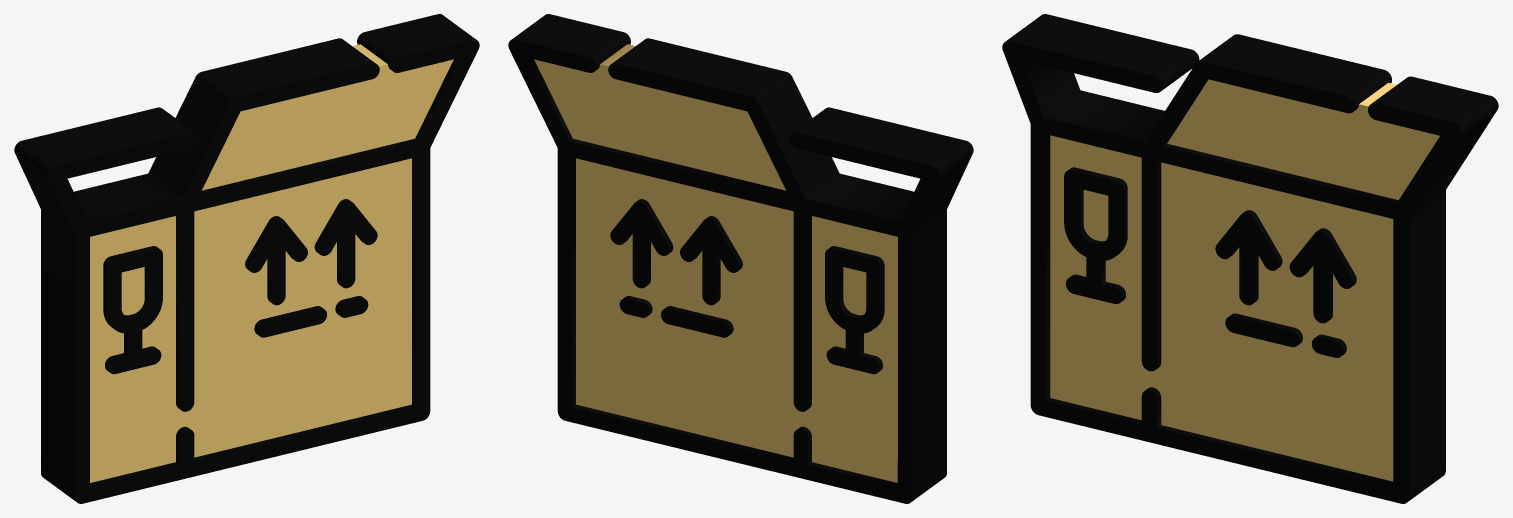
File: Cardboard Box.fbx
3 renders of one model, left to right at view 1: azimuth 30°, elevation 25°; view 2: azimuth 150°, elevation 25°; view 3: azimuth 330°, elevation 25°, orthographic. The views are drawn at different scales.
Visible parts, largest first — view 1: Curve.004, Curve.001, Curve.002, Curve.005, Curve.009, Curve.008, Curve.007, Curve.006; view 2: Curve.004, Curve.001, Curve.002, Curve.005, Curve.009, Curve.008, Curve.007, Curve.006; view 3: Curve.004, Curve.001, Curve.002, Curve.005, Curve.009, Curve.008, Curve.007, Curve.006.
Part boxes in pixels (x1=…): Curve.004: x1=14, y1=14, x2=479, y2=503; Curve.001: x1=90, y1=158, x2=411, y2=482; Curve.002: x1=202, y1=44, x2=453, y2=190; Curve.005: x1=103, y1=246, x2=162, y2=374; Curve.009: x1=314, y1=199, x2=377, y2=288; Curve.008: x1=245, y1=216, x2=307, y2=305; Curve.007: x1=254, y1=306, x2=326, y2=337; Curve.006: x1=335, y1=296, x2=368, y2=317; Curve.004: x1=508, y1=14, x2=973, y2=503; Curve.001: x1=576, y1=158, x2=897, y2=482; Curve.002: x1=534, y1=44, x2=785, y2=190; Curve.005: x1=825, y1=246, x2=884, y2=374; Curve.009: x1=610, y1=199, x2=673, y2=288; Curve.008: x1=680, y1=216, x2=742, y2=305; Curve.007: x1=661, y1=306, x2=733, y2=337; Curve.006: x1=619, y1=296, x2=652, y2=317; Curve.004: x1=1002, y1=14, x2=1498, y2=503; Curve.001: x1=1050, y1=135, x2=1393, y2=481; Curve.002: x1=1167, y1=79, x2=1439, y2=199; Curve.005: x1=1064, y1=167, x2=1127, y2=304; Curve.009: x1=1289, y1=228, x2=1356, y2=323; Curve.008: x1=1215, y1=210, x2=1282, y2=305; Curve.007: x1=1225, y1=313, x2=1302, y2=347; Curve.006: x1=1311, y1=334, x2=1346, y2=357.
Bounding box in the file's own units: 145 × 118 × 20.
